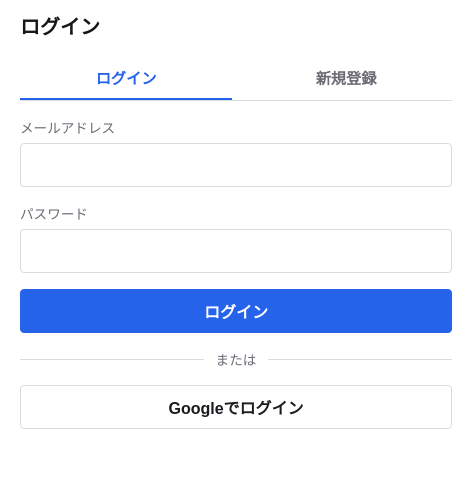
LoginForm › ログイン › メール・パスワード未入力の場合はバリデーションエラーを表示し、signInWithPasswordを呼ばない
Click the button "ログイン": (236, 311) [20,289,452,333]
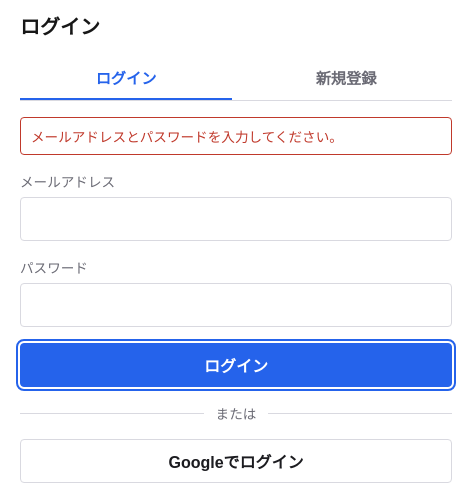
Check: the message reads "メールアドレスとパスワードを入力してください。", box [31,127,343,146]
